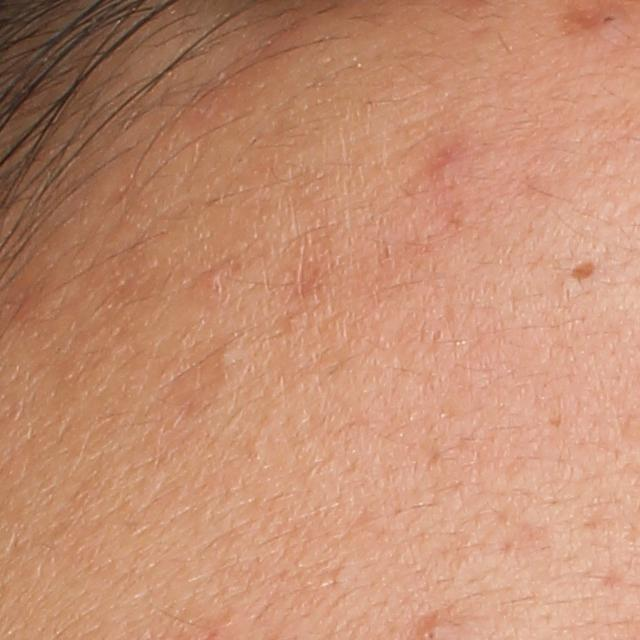atrophic_scar: (568, 260, 596, 282)
comedo: (213, 346, 241, 373)
